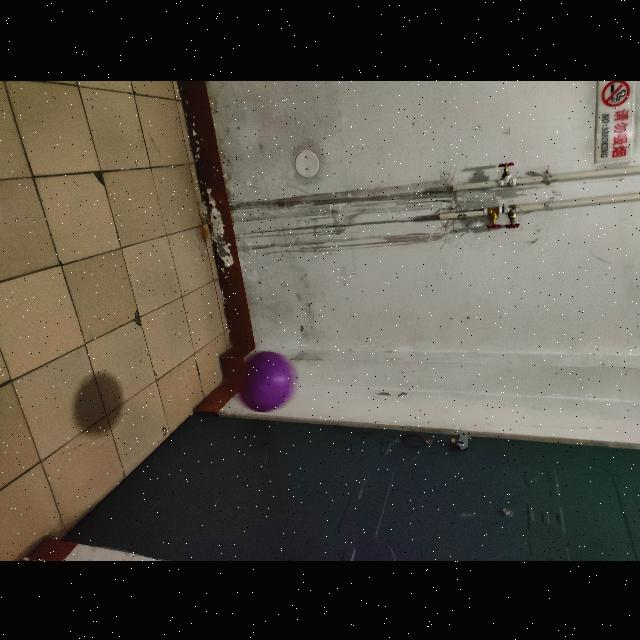P: (235, 350, 298, 412)
